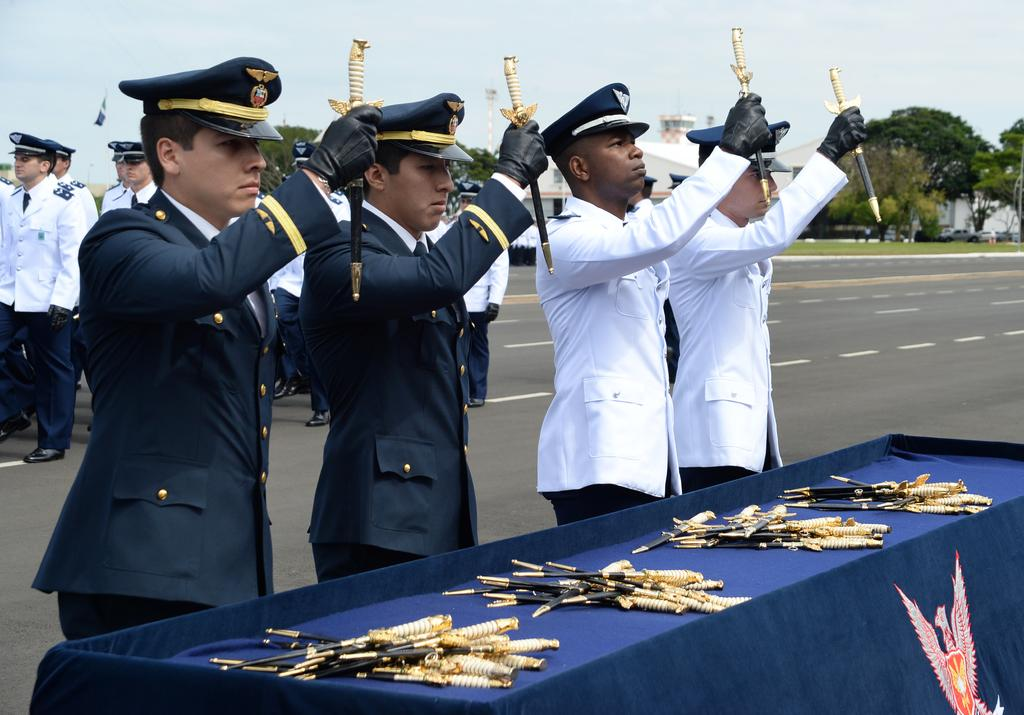Hat: (116, 55, 286, 141), (536, 77, 656, 158), (372, 86, 473, 163), (683, 120, 792, 173), (6, 128, 58, 156), (120, 140, 146, 165), (46, 136, 72, 156), (107, 138, 128, 160)
